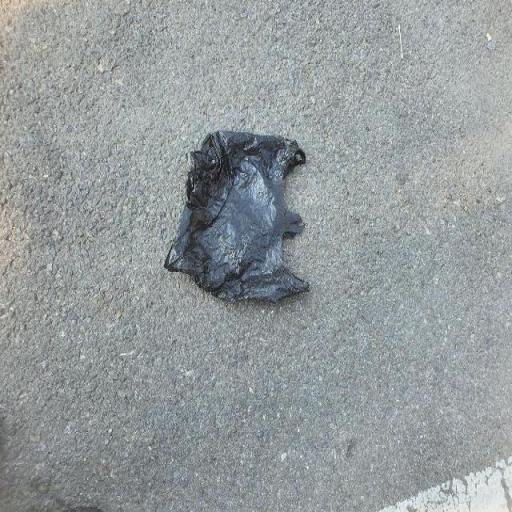plastic-bag: (161, 129, 312, 307)
